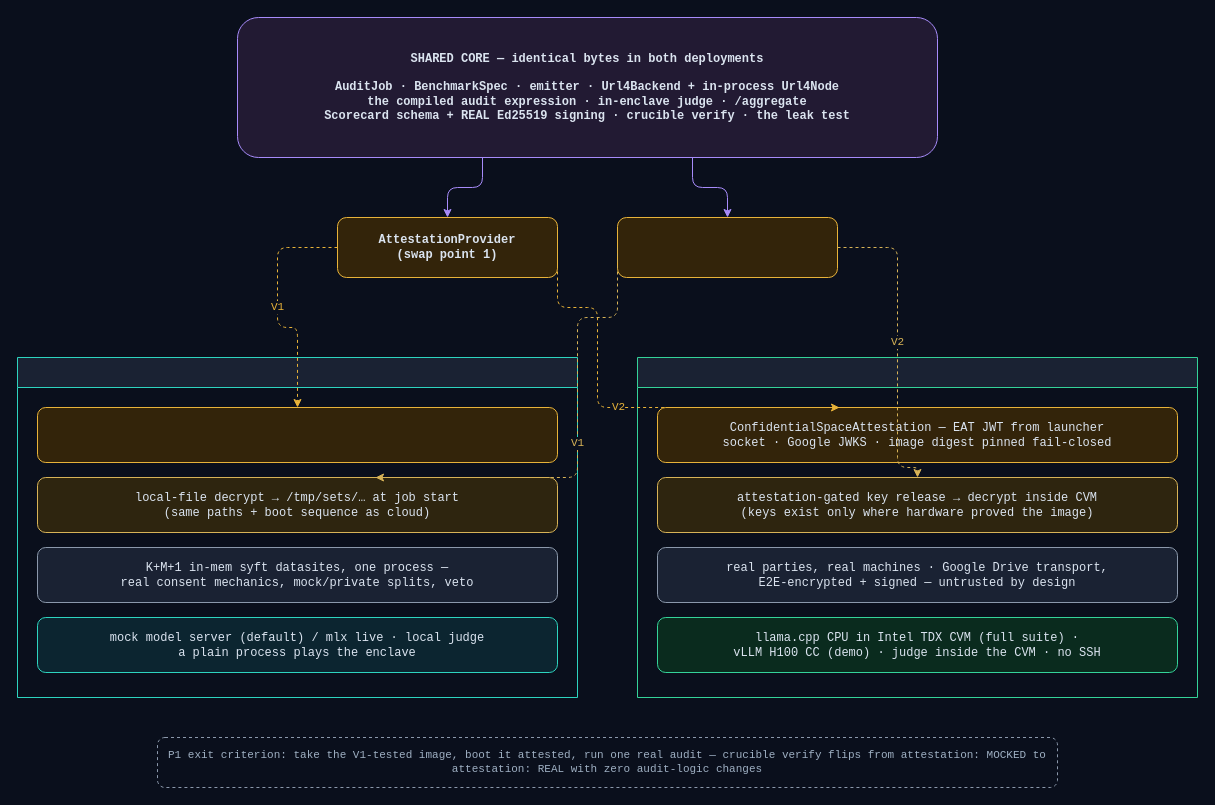
Some shapes in this 1215 by 805 pixel diagram are drawn without their labels. Each missing label, with the box of its shape:
MockAttestation — loud banner; verify reports attestation: MOCKED: (36, 406, 558, 462)
SealedAssetRef resolver (swap point 2): (616, 216, 838, 278)
V1 — LOCAL (the P0 notebook: everything on one laptop): (16, 356, 578, 698)
V2 — CLOUD (E3: GCP Confidential Space): (636, 356, 1198, 698)
